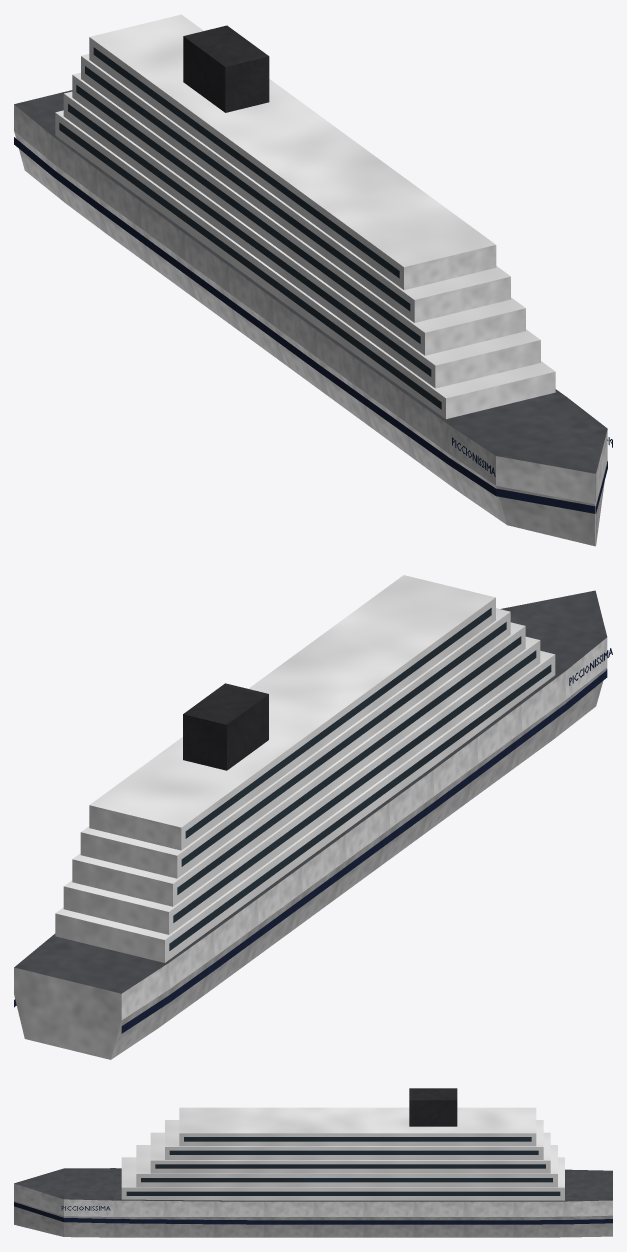
The model's file is SM_MoloItalia_NaveCrociera.fbx.
The picture shows the model from 3 angles, top to bottom: view 1: azimuth 30°, elevation 25°; view 2: azimuth 150°, elevation 25°; view 3: azimuth 270°, elevation 25°; orthographic projection. The views are drawn at different scales.
Parts seen in each view (by area): view 1: SM_MoloItalia_NaveCrociera; view 2: SM_MoloItalia_NaveCrociera; view 3: SM_MoloItalia_NaveCrociera.
Boxes of the visible parts, x1,y1,x2,y2 form: SM_MoloItalia_NaveCrociera: [14, 14, 612, 546]; SM_MoloItalia_NaveCrociera: [14, 575, 612, 1059]; SM_MoloItalia_NaveCrociera: [14, 1088, 612, 1237].
Bounding box in the file's own units: 3230 × 25000 × 6000.
1 material, 1 textured.
